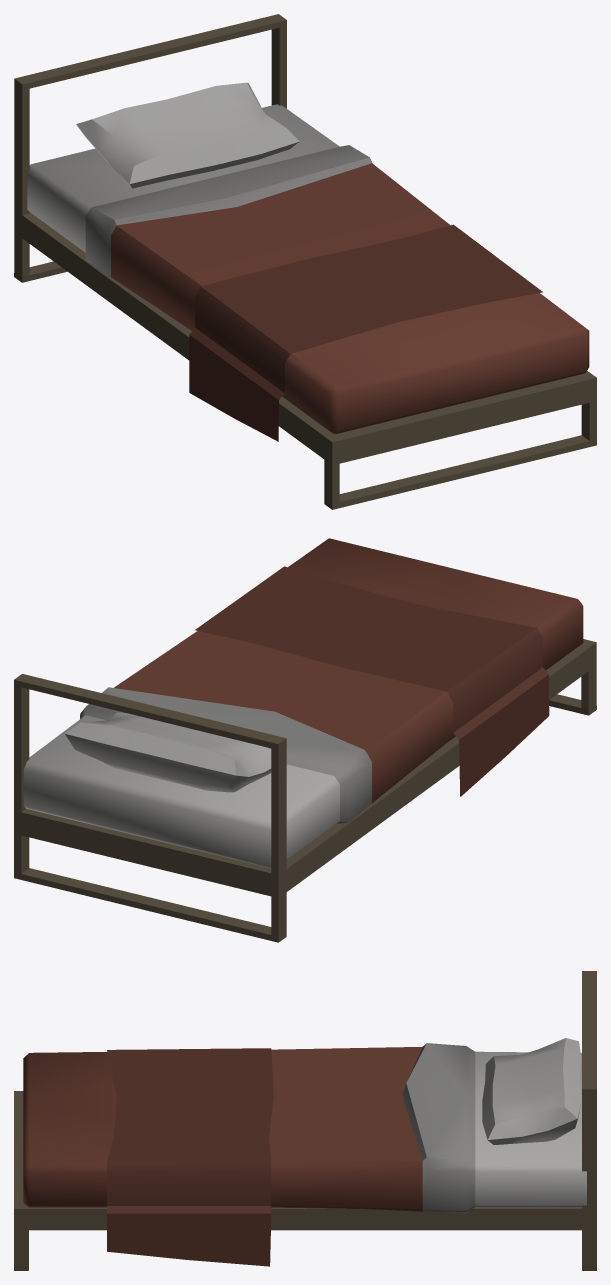
The model's file is Bed_Single.gltf.
3 renders of one model, top to bottom at view 1: azimuth 30°, elevation 25°; view 2: azimuth 150°, elevation 25°; view 3: azimuth 270°, elevation 25°, orthographic. The views are drawn at different scales.
Visible parts, largest first — view 1: Bed_Single; view 2: Bed_Single; view 3: Bed_Single.
Boxes of the visible parts, x1=… form: Bed_Single: x1=14, y1=14, x2=596, y2=509; Bed_Single: x1=14, y1=538, x2=596, y2=942; Bed_Single: x1=14, y1=971, x2=596, y2=1270.
Size of the model in its own units: 1.98 by 1.35 by 3.94.
